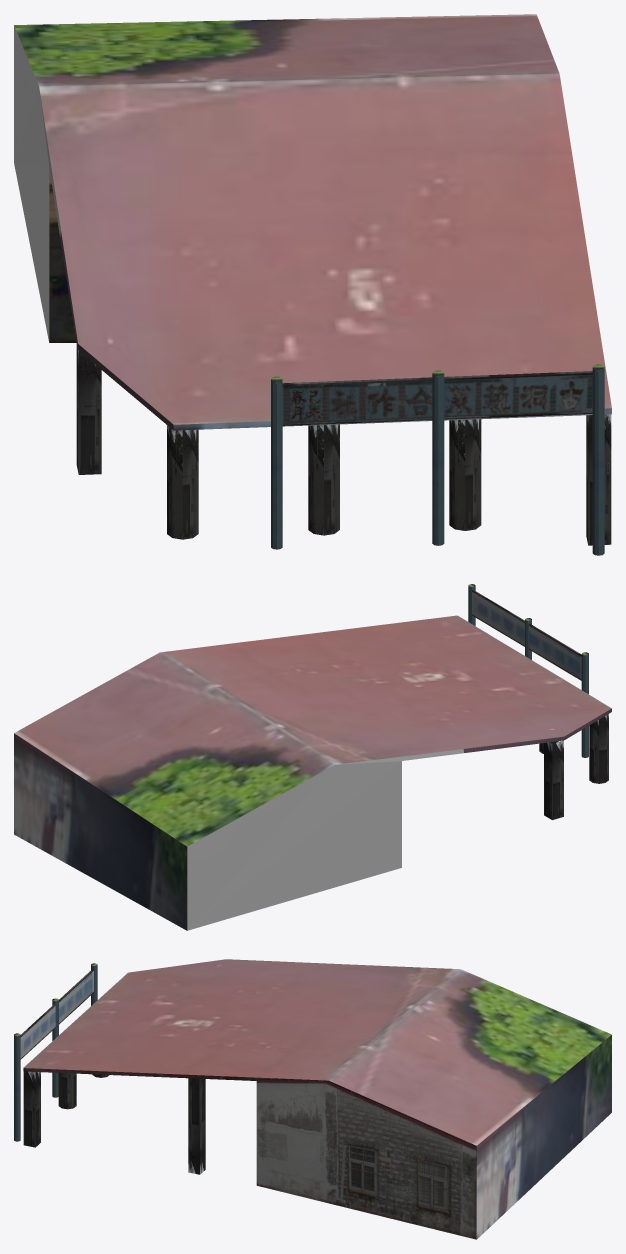
3 renders of one model, top to bottom at view 1: azimuth 30°, elevation 25°; view 2: azimuth 150°, elevation 25°; view 3: azimuth 270°, elevation 25°, orthographic. The views are drawn at different scales.
Visible parts, largest first — view 1: B286124046201062A0; view 2: B286124046201062A0; view 3: B286124046201062A0.
Part boxes in pixels (bbox=[...]): B286124046201062A0: bbox=[14, 14, 611, 555]; B286124046201062A0: bbox=[14, 584, 611, 930]; B286124046201062A0: bbox=[14, 959, 611, 1239].
Bounding box in the file's own units: 14.57 × 4.68 × 19.62.
Materials: 1 (1 with a texture image).
